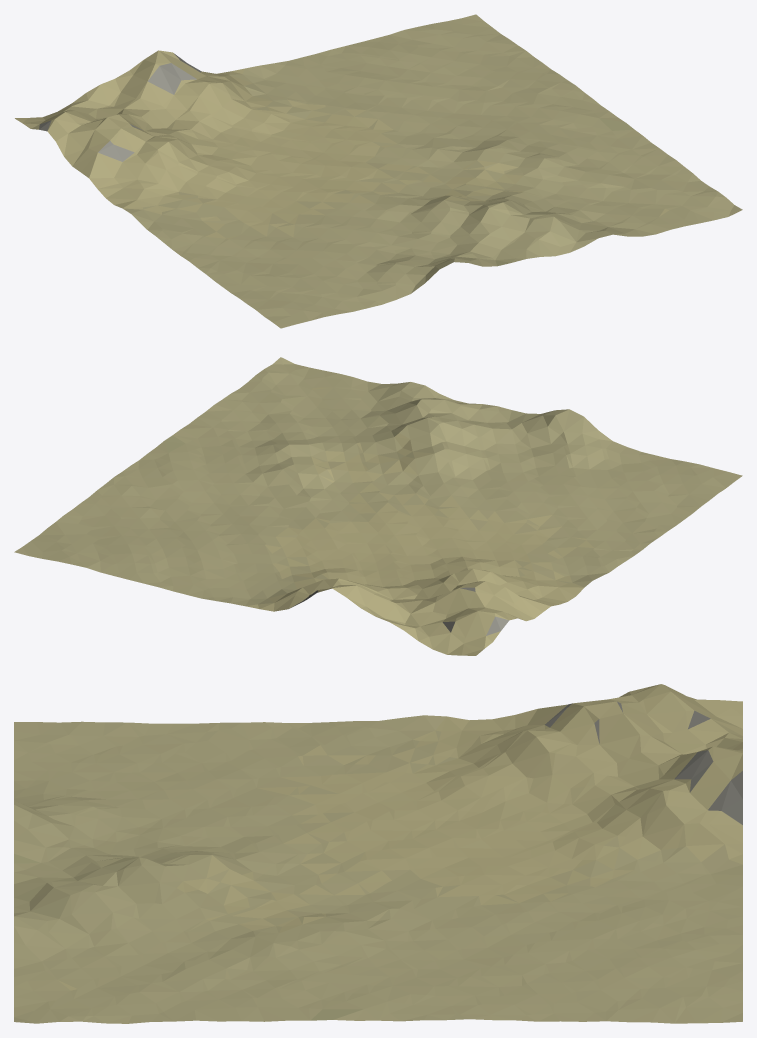
Rendered from Ground_3_4.glb.
The picture shows the model from 3 angles, top to bottom: view 1: azimuth 30°, elevation 25°; view 2: azimuth 150°, elevation 25°; view 3: azimuth 270°, elevation 25°; orthographic projection. The views are drawn at different scales.
Visible parts, largest first — view 1: Ground_3_4; view 2: Ground_3_4; view 3: Ground_3_4.
Boxes of the visible parts, x1,y1,x2,y2 form: Ground_3_4: (15,14,742,328); Ground_3_4: (14,357,742,655); Ground_3_4: (14,684,742,1023).
Bounding box in the file's own units: 768 × 77.37 × 768.
